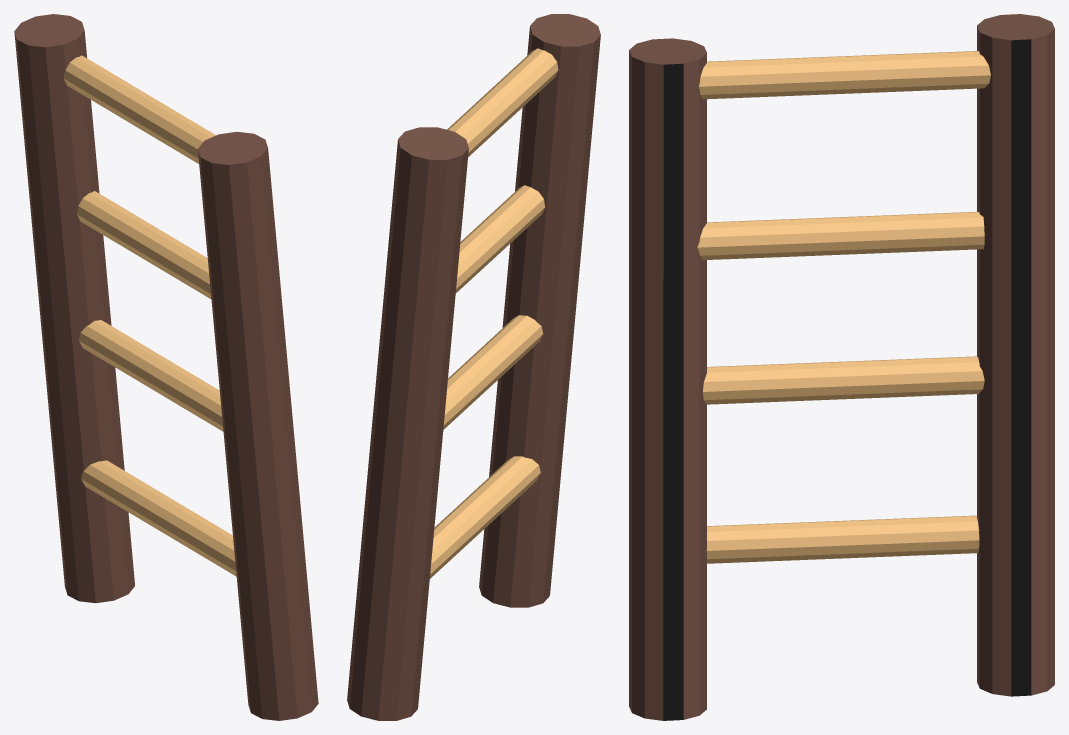
3 views of the same model, side by side, from view 1: azimuth 30°, elevation 25°; view 2: azimuth 150°, elevation 25°; view 3: azimuth 270°, elevation 25° (orthographic). The views are drawn at different scales.
Parts seen in each view (by area): view 1: mesh_66273994, mesh_640031794, mesh_242829727, mesh_462087193, mesh_65801784, mesh_426744617; view 2: mesh_640031794, mesh_66273994, mesh_242829727, mesh_65801784, mesh_462087193, mesh_426744617; view 3: mesh_66273994, mesh_640031794, mesh_65801784, mesh_426744617, mesh_462087193, mesh_242829727.
Boxes of the visible parts, bbox=[...] form: mesh_66273994: bbox=[198, 131, 318, 720]; mesh_640031794: bbox=[14, 14, 134, 603]; mesh_242829727: bbox=[81, 460, 236, 576]; mesh_462087193: bbox=[79, 320, 223, 431]; mesh_65801784: bbox=[63, 55, 215, 163]; mesh_426744617: bbox=[77, 191, 211, 298]; mesh_640031794: bbox=[347, 127, 468, 720]; mesh_66273994: bbox=[479, 14, 600, 607]; mesh_242829727: bbox=[430, 456, 540, 578]; mesh_65801784: bbox=[447, 48, 558, 157]; mesh_462087193: bbox=[443, 315, 543, 429]; mesh_426744617: bbox=[455, 185, 544, 293]; mesh_66273994: bbox=[629, 38, 706, 720]; mesh_640031794: bbox=[977, 14, 1054, 696]; mesh_65801784: bbox=[698, 51, 990, 99]; mesh_426744617: bbox=[697, 211, 984, 260]; mesh_462087193: bbox=[702, 356, 984, 404]; mesh_242829727: bbox=[706, 515, 979, 563].
Size of the model in its own units: 31.36 by 127 by 75.93.
